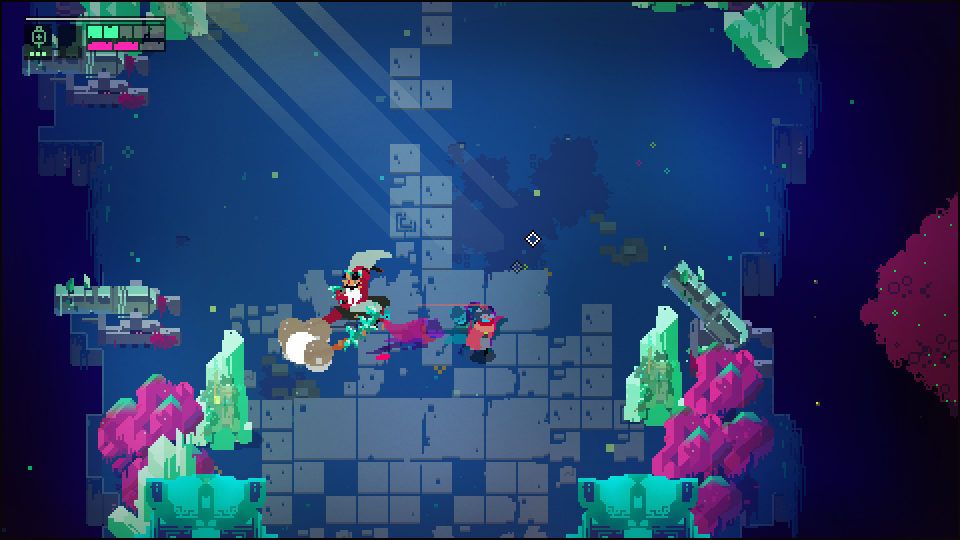hanged_man: (323, 246, 396, 352)
player: (464, 308, 496, 370)
